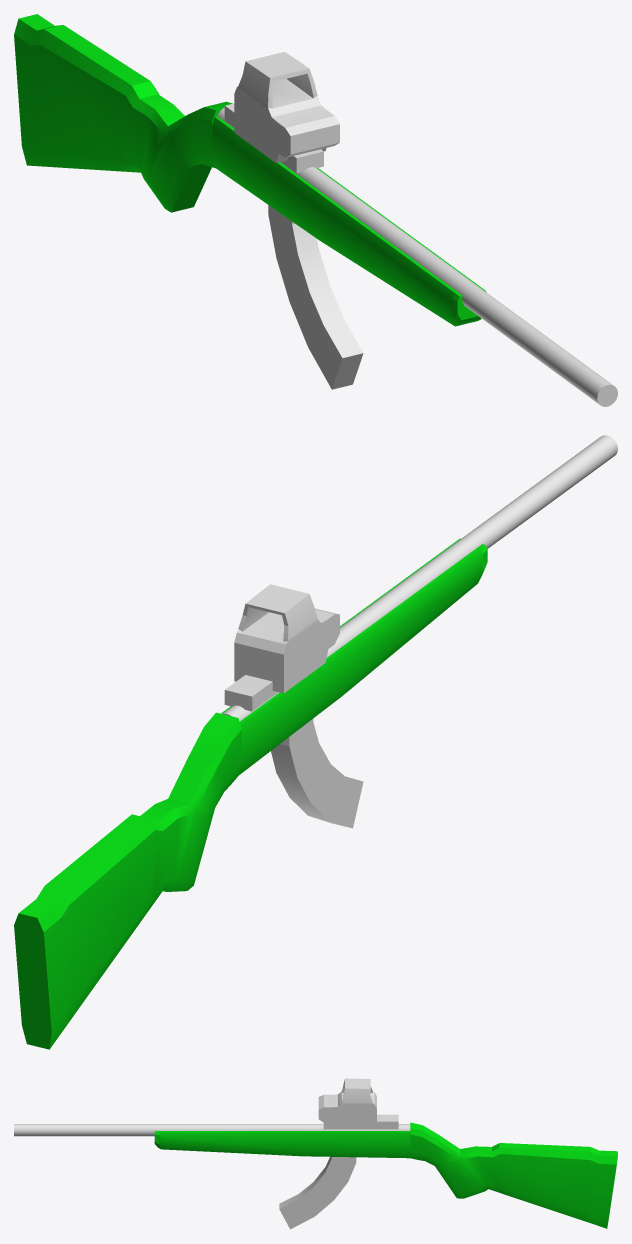
The picture shows the model from 3 angles, top to bottom: view 1: azimuth 30°, elevation 25°; view 2: azimuth 150°, elevation 25°; view 3: azimuth 270°, elevation 25°; orthographic projection. The views are drawn at different scales.
Parts seen in each view (by area): view 1: Cube.009; view 2: Cube.009; view 3: Cube.009.
Part boxes in pixels (x1,y1,x2,y2): Cube.009: (14,14,617,406); Cube.009: (14,435,617,1049); Cube.009: (14,1078,617,1229).
Bounding box in the file's own units: 26.67 × 141 × 540.
